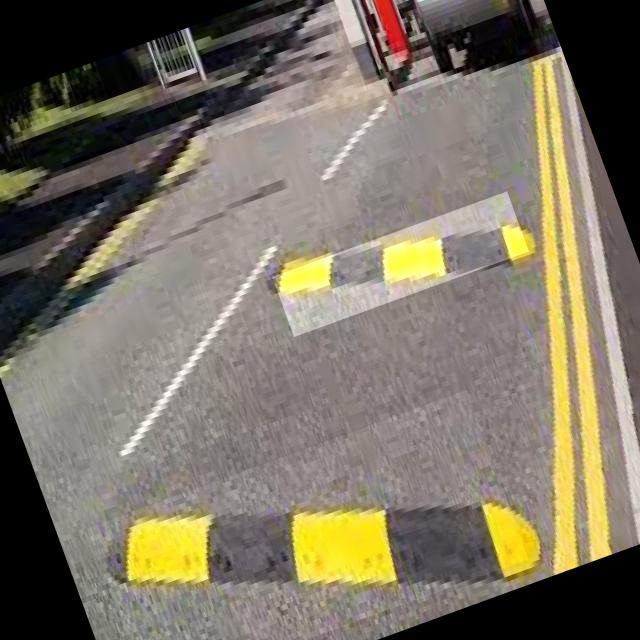bump: (87, 391, 528, 640), (272, 191, 529, 337)
